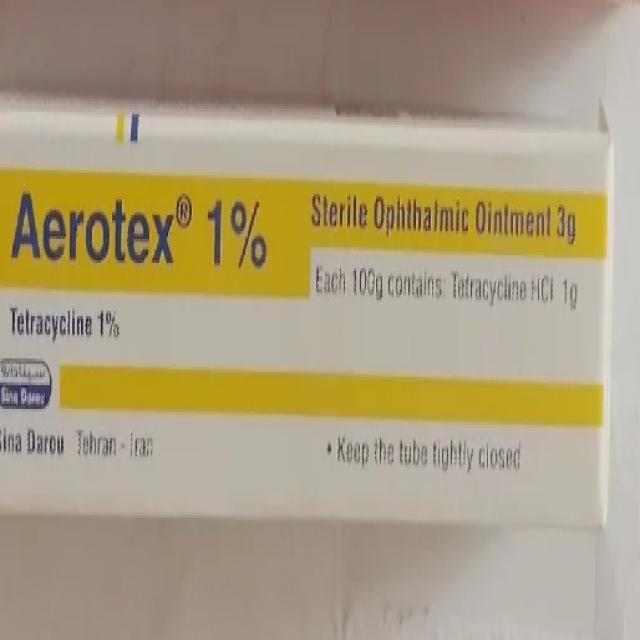drug-name: (12, 190, 176, 266)
